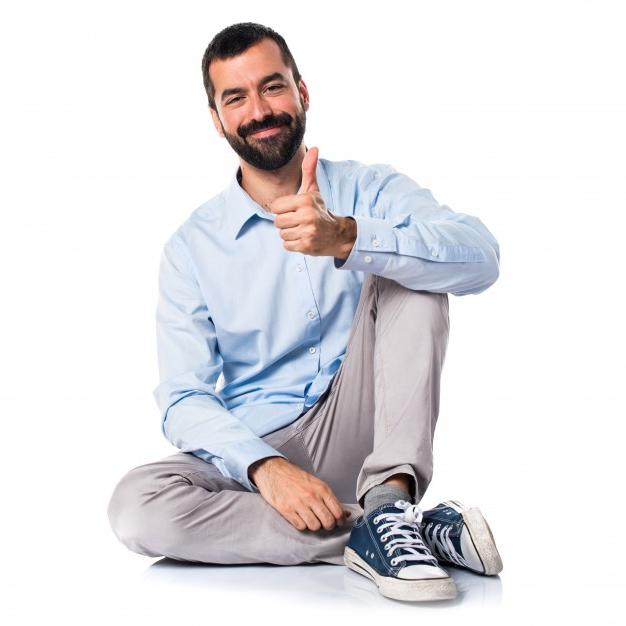thumbsup: (270, 146, 323, 252)
